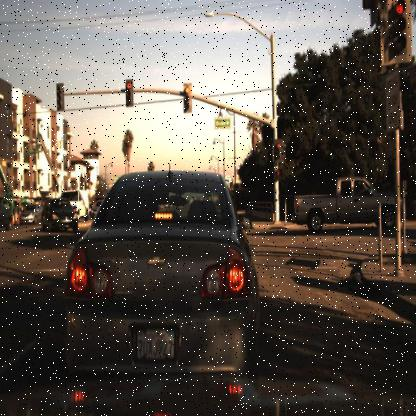car: (63, 168, 260, 390), (292, 176, 404, 238), (39, 196, 79, 236), (60, 184, 90, 220), (15, 201, 46, 227)
trafficLight: (182, 81, 192, 115), (55, 83, 64, 110)
trafficLight-Red: (382, 1, 413, 64), (387, 0, 406, 55), (124, 78, 134, 107), (273, 138, 284, 164), (276, 138, 281, 154)
truck: (65, 188, 94, 219)
